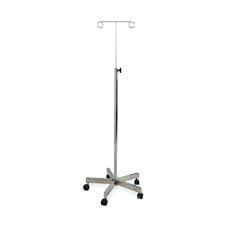Saline Stand: (82, 19, 143, 205)
